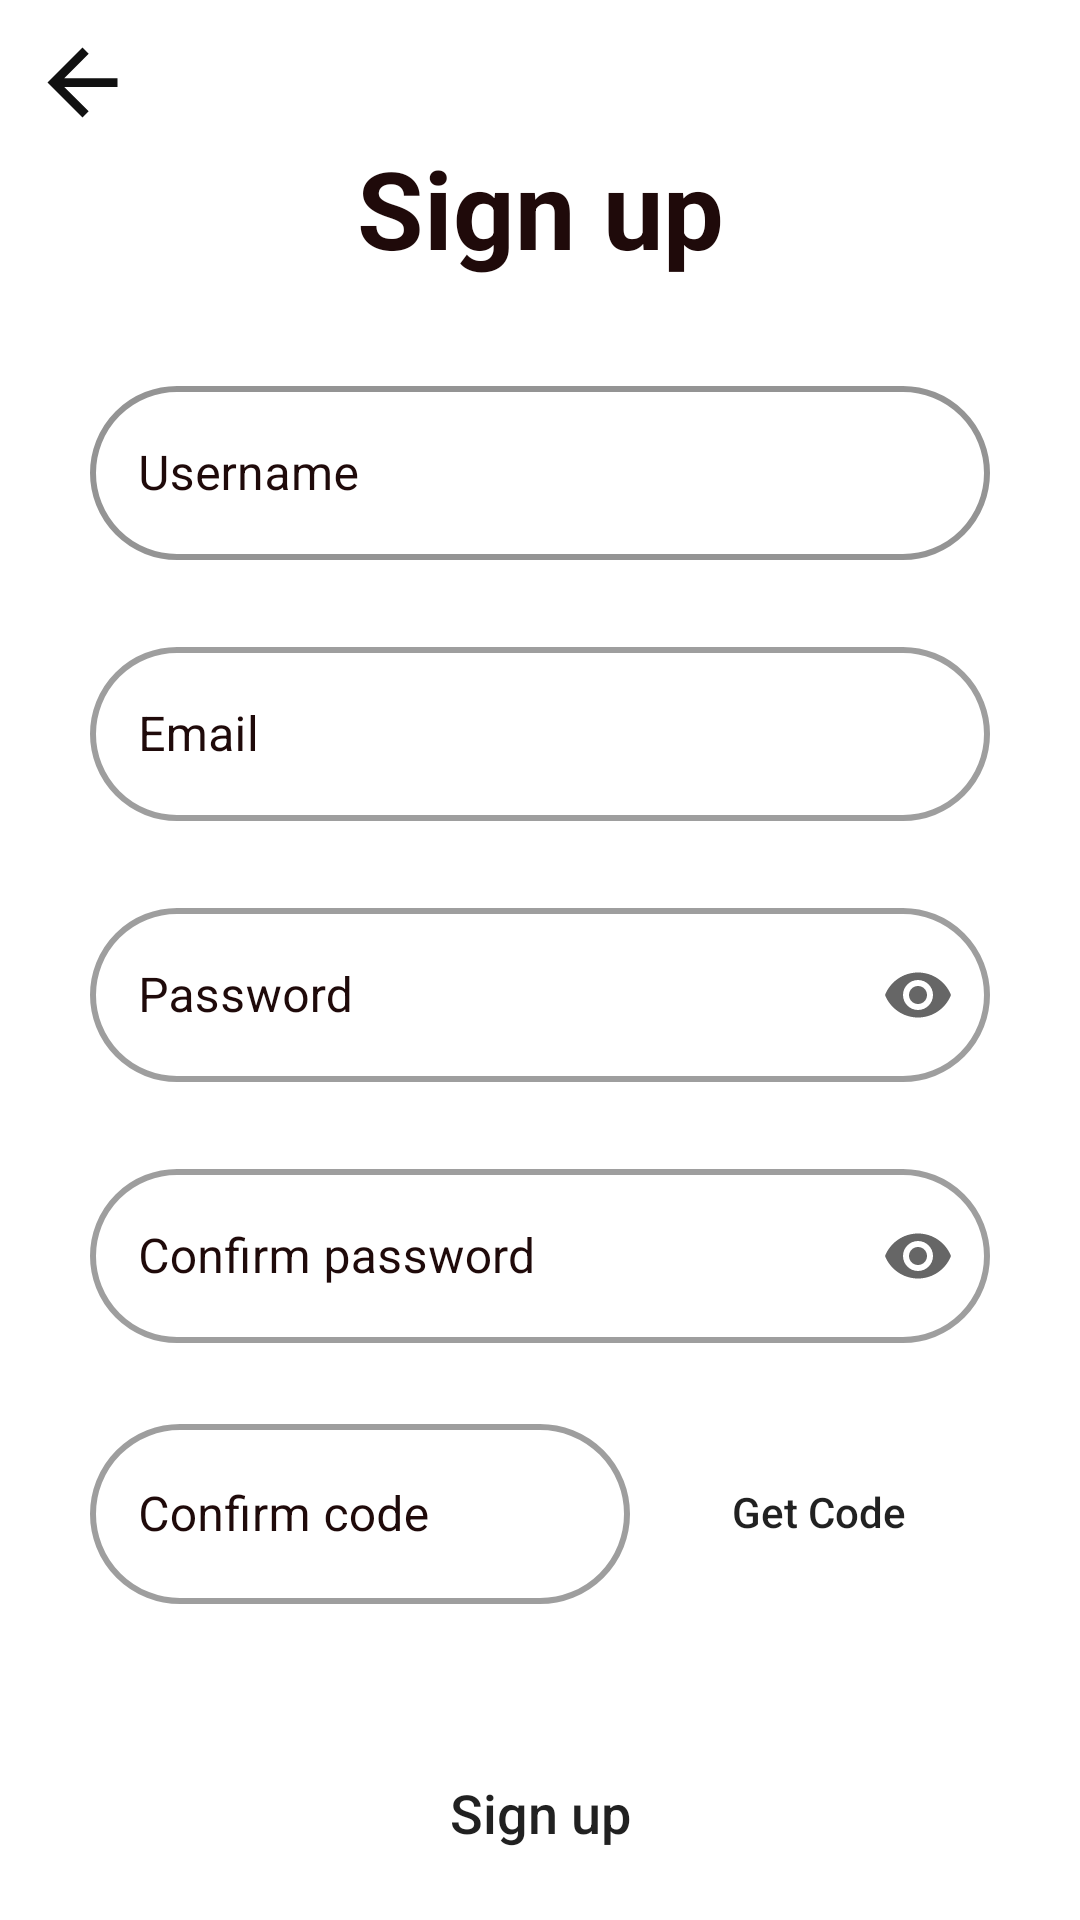

Icons on this 1080*1920 Android screen, each with the point to tap as [x,y]:
arrow back: [82,82]
